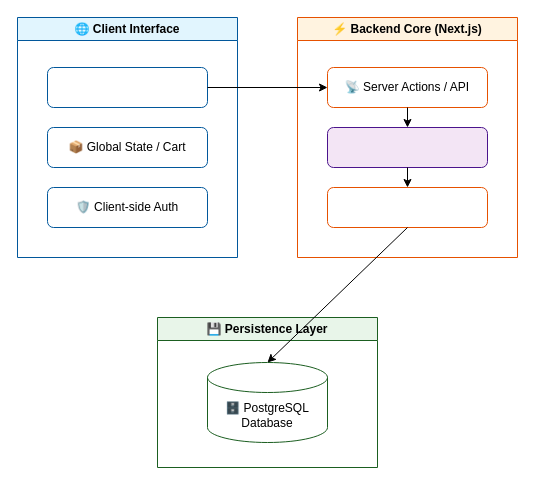
Some shapes in this 535 by 485 pixel diagram are drawn without their labels. Here are the shapes that lost their labels. From the top down, the centre of each, then its label:
pixel 127 87: 💻 React / Next.js UI
pixel 407 147: 🔐 Auth.js Middleware
pixel 407 207: 💎 Prisma ORM
